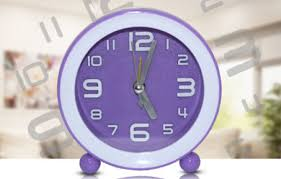alarm_clock: (53, 4, 220, 172), (55, 4, 220, 172), (53, 8, 220, 172), (57, 4, 220, 172), (58, 8, 220, 172)
